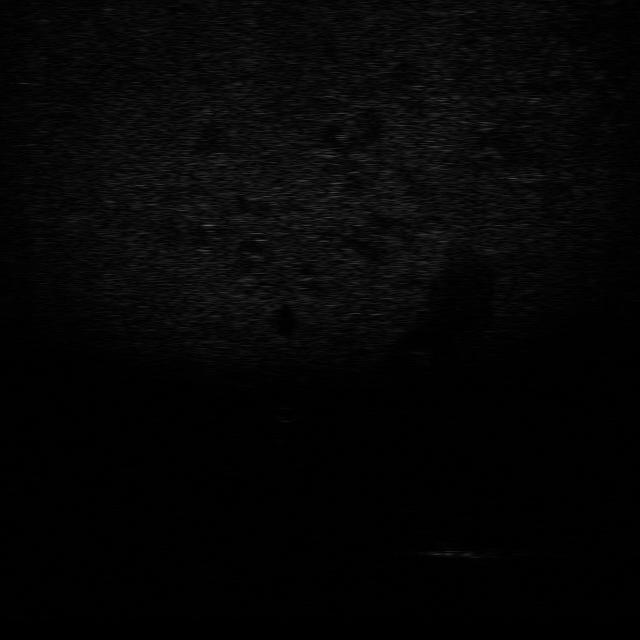ball: (269, 403, 306, 424)
metal bucket: (432, 536, 502, 566)
tyre: (404, 518, 461, 551)
